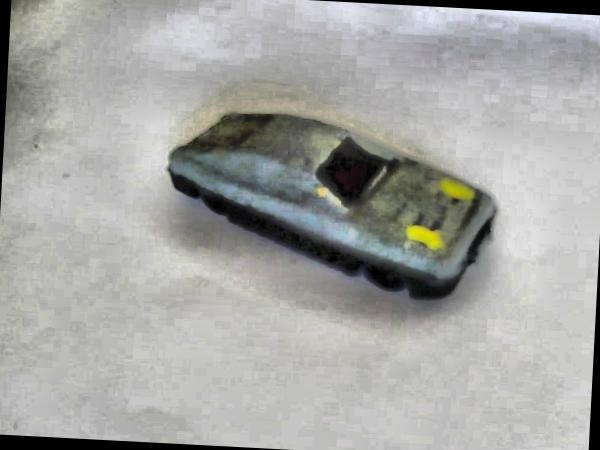normal_car: (158, 103, 506, 304)
